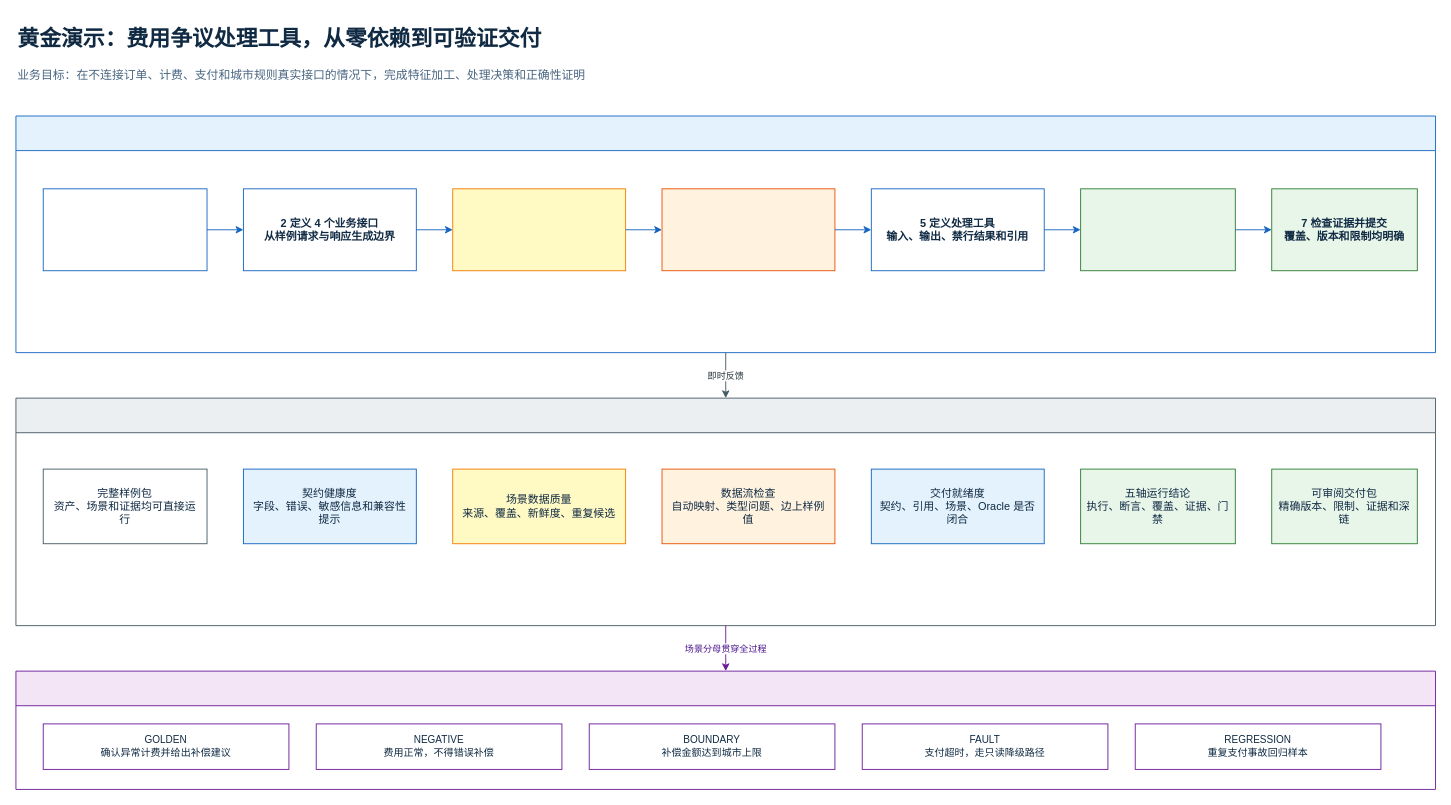
The diagram is 1451 pixels wide and 805 high, and some of its shapes have lost their labels. The shapes that lost their labels are listed below. From the top down, each one's box as (x1, y1, x2, y2) in pixels, then its label:
(42, 188, 207, 271): 1 选择完整样例 费用争议处理
(452, 188, 626, 271): 3 准备场景数据 正常、无异常、边界、超时
(15, 115, 1436, 353): 业务作者的操作
(661, 188, 835, 271): 4 编排费用争议特征 在 DAG 上连接接口与字段
(1080, 188, 1235, 271): 6 选择场景隔离试跑 逐边看数据，定位差异
(15, 397, 1436, 626): 系统实时反馈
(15, 670, 1436, 789): 黄金样例中的场景分母
